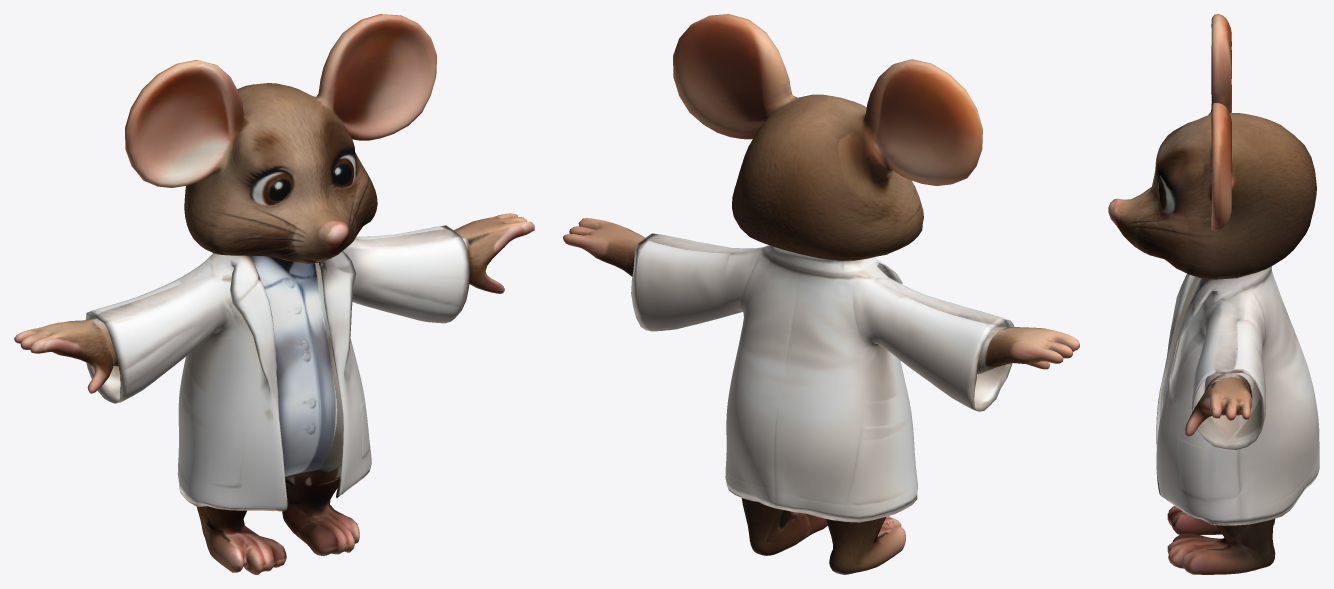
Rendered from SkRg_LabMouse.fbx.
3 renders of one model, left to right at view 1: azimuth 30°, elevation 25°; view 2: azimuth 150°, elevation 25°; view 3: azimuth 270°, elevation 25°, orthographic. The views are drawn at different scales.
Visible parts, largest first — view 1: Mesh1_Mesh1.052; view 2: Mesh1_Mesh1.052; view 3: Mesh1_Mesh1.052.
Part boxes in pixels (<box>): Mesh1_Mesh1.052: <box>14,14,534,574</box>; Mesh1_Mesh1.052: <box>563,14,1079,574</box>; Mesh1_Mesh1.052: <box>1108,14,1319,574</box>.
Bounding box in the file's own units: 198 × 191 × 75.69.
Materials: 1 (1 with a texture image).
